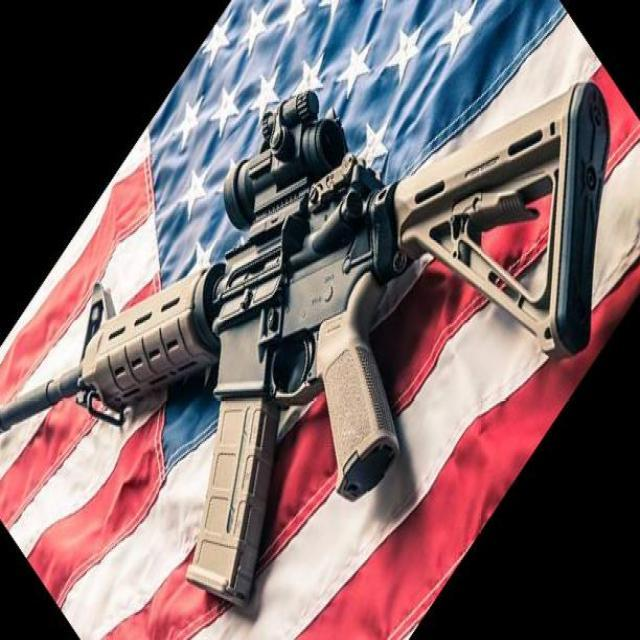weapon: (0, 80, 612, 610)
